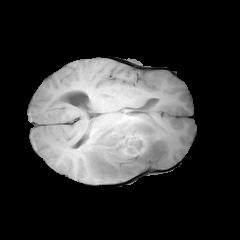glioma: (79, 114, 169, 181)
